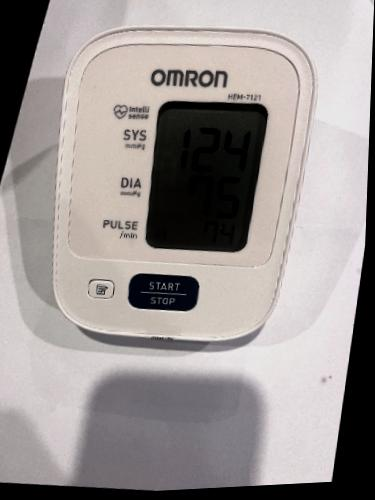bpm: (141, 91, 270, 260)
